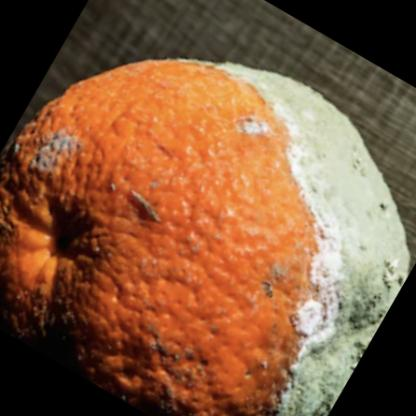rotten: (1, 57, 409, 416)
